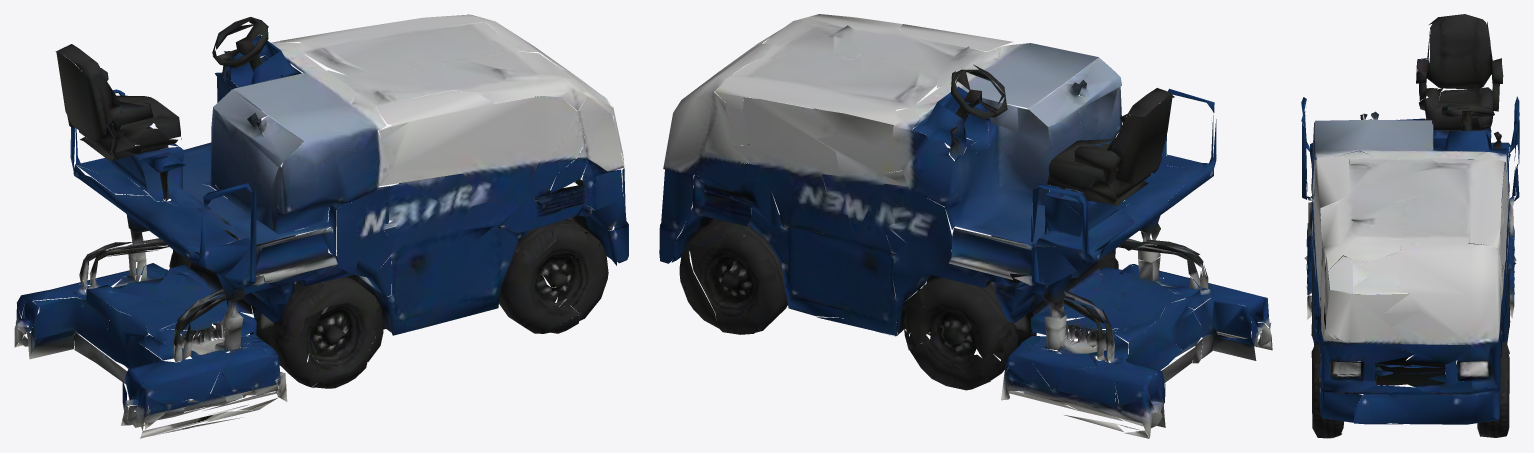
Rendered from lt_zamboni.glb.
The picture shows the model from 3 angles, left to right: view 1: azimuth 30°, elevation 25°; view 2: azimuth 150°, elevation 25°; view 3: azimuth 270°, elevation 25°; orthographic projection. The views are drawn at different scales.
Parts seen in each view (by area): view 1: tripo_node_48a33678-c458-4f2d-97d8-ce4b965541f5; view 2: tripo_node_48a33678-c458-4f2d-97d8-ce4b965541f5; view 3: tripo_node_48a33678-c458-4f2d-97d8-ce4b965541f5.
Part boxes in pixels (left/top/right/bottom): tripo_node_48a33678-c458-4f2d-97d8-ce4b965541f5: left=14, top=14, right=628, bottom=438; tripo_node_48a33678-c458-4f2d-97d8-ce4b965541f5: left=659, top=14, right=1272, bottom=438; tripo_node_48a33678-c458-4f2d-97d8-ce4b965541f5: left=1301, top=14, right=1519, bottom=438.
Size of the model in its own units: 0.9979 by 0.5928 by 0.4473.
1 material, 1 textured.
